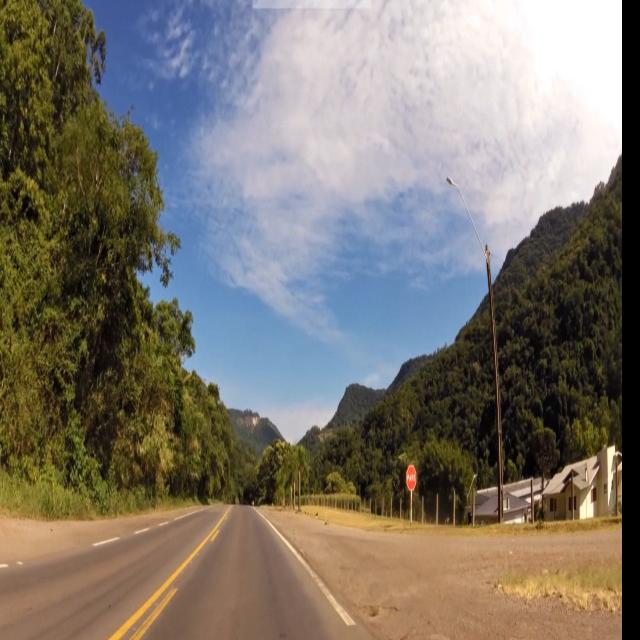R-1: (406, 464, 417, 492)
